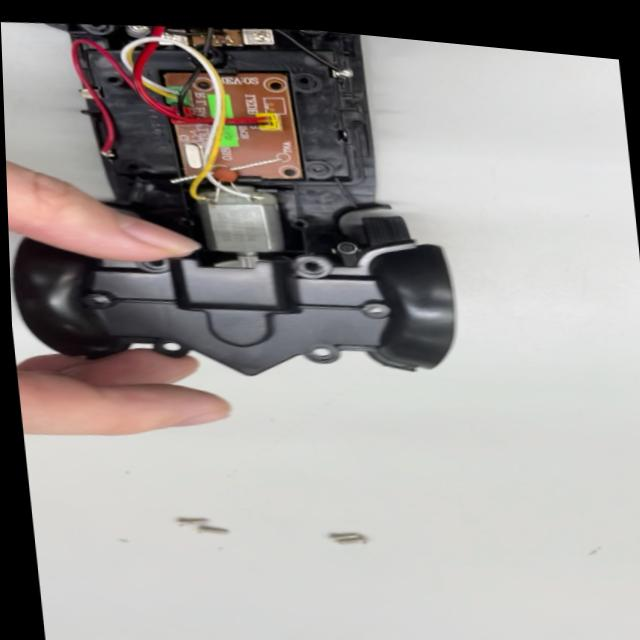motor_cover: (13, 207, 470, 398)
